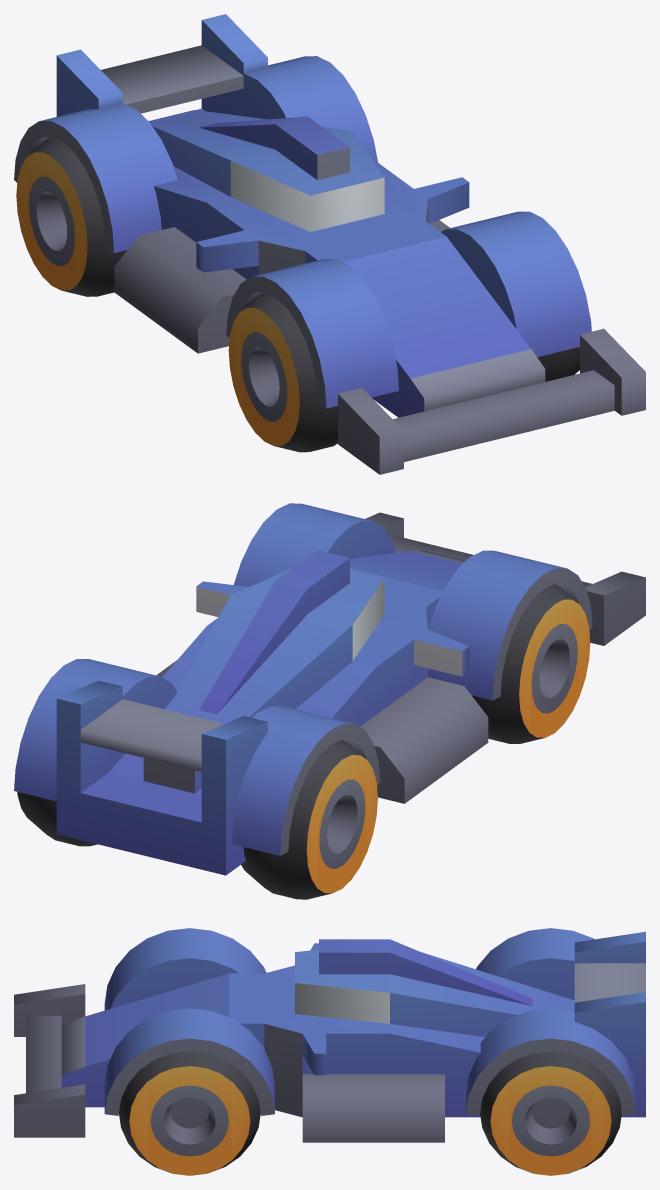
Rendered from race-future.glb.
3 views of the same model, one above another, from view 1: azimuth 30°, elevation 25°; view 2: azimuth 150°, elevation 25°; view 3: azimuth 270°, elevation 25° (orthographic). The views are drawn at different scales.
Parts seen in each view (by area): view 1: body, wheel-front-right, wheel-back-right, wheel-front-left; view 2: body, wheel-back-right, wheel-front-right, wheel-back-left; view 3: body, wheel-back-left, wheel-front-left.
Boxes of the visible parts, x1=… form: body: x1=14, y1=14, x2=645, y2=474; wheel-front-right: x1=228, y1=292, x2=337, y2=452; wheel-back-right: x1=16, y1=137, x2=126, y2=296; wheel-front-left: x1=537, y1=347, x2=579, y2=381; body: x1=14, y1=503, x2=645, y2=875; wheel-back-right: x1=241, y1=740, x2=377, y2=899; wheel-front-right: x1=472, y1=584, x2=590, y2=743; wheel-back-left: x1=17, y1=792, x2=97, y2=846; body: x1=14, y1=928, x2=645, y2=1142; wheel-back-left: x1=480, y1=1051, x2=621, y2=1175; wheel-front-left: x1=119, y1=1051, x2=260, y2=1175.
Size of the model in its own units: 1.2 by 0.8325 by 2.66.
1 material, 1 textured.
